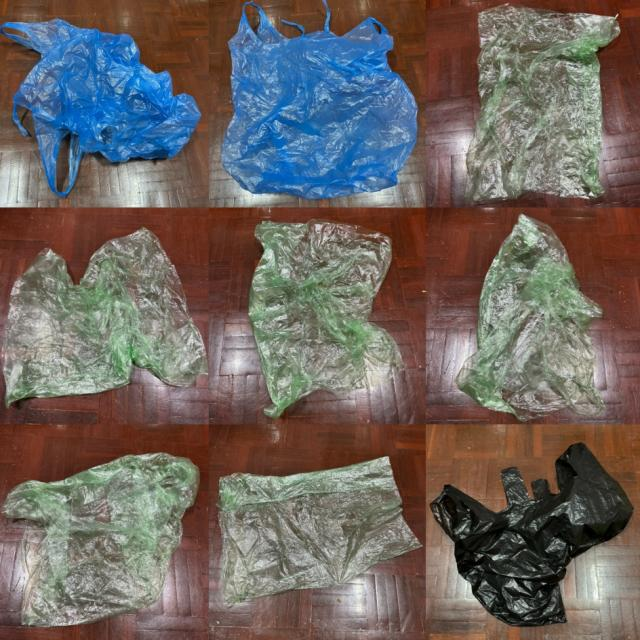plastik: (222, 0, 418, 199), (430, 443, 634, 625), (2, 228, 207, 406), (0, 18, 200, 196), (2, 453, 199, 626), (456, 214, 606, 421), (249, 219, 405, 418), (465, 4, 620, 202), (217, 457, 420, 607)
